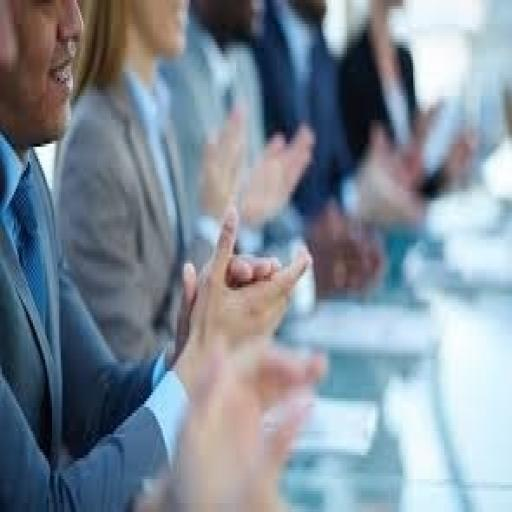clapping: (0, 0, 328, 509)
